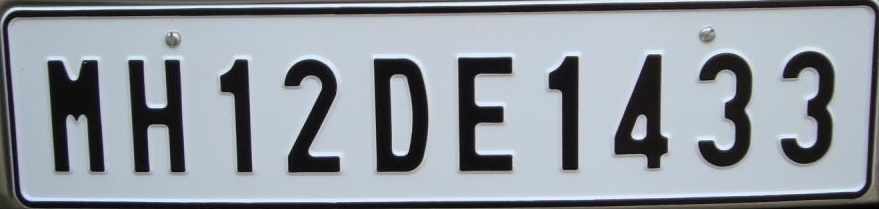character: (45, 53, 104, 178), (126, 56, 188, 173), (456, 53, 515, 173), (282, 58, 340, 173), (372, 56, 428, 173), (613, 53, 669, 169), (780, 48, 833, 165), (698, 51, 750, 167), (218, 54, 253, 177), (548, 53, 580, 173)
